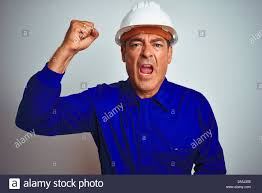Person_wearing_helmet: (108, 2, 180, 55)
